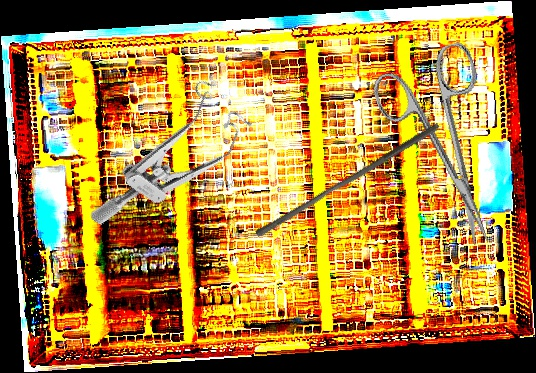Iris Scissors: (366, 39, 528, 261)
Pusher: (253, 115, 442, 245)
Speculum: (87, 63, 264, 264)
